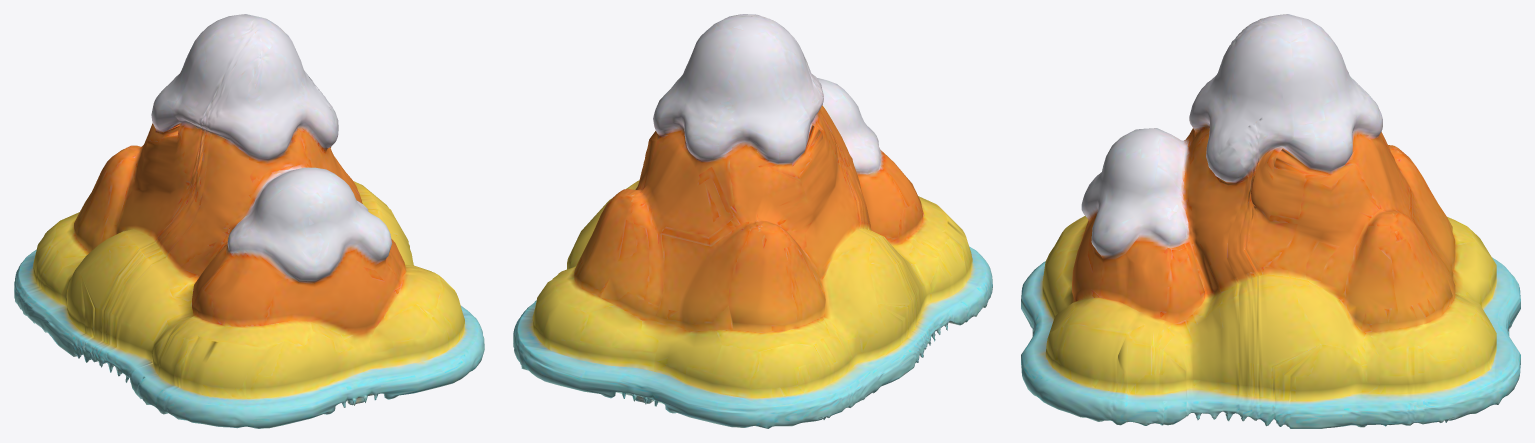
File: 童话山.glb
The picture shows the model from 3 angles, left to right: view 1: azimuth 30°, elevation 25°; view 2: azimuth 150°, elevation 25°; view 3: azimuth 270°, elevation 25°; orthographic projection. The views are drawn at different scales.
Parts seen in each view (by area): view 1: tripo_node_5a13ac86-fd3b-43cb-9501-3dc52e5e7fc3; view 2: tripo_node_5a13ac86-fd3b-43cb-9501-3dc52e5e7fc3; view 3: tripo_node_5a13ac86-fd3b-43cb-9501-3dc52e5e7fc3.
Boxes of the visible parts, x1=… form: tripo_node_5a13ac86-fd3b-43cb-9501-3dc52e5e7fc3: x1=14, y1=14, x2=484, y2=428; tripo_node_5a13ac86-fd3b-43cb-9501-3dc52e5e7fc3: x1=513, y1=14, x2=992, y2=428; tripo_node_5a13ac86-fd3b-43cb-9501-3dc52e5e7fc3: x1=1021, y1=14, x2=1520, y2=428.
Bounding box in the file's own units: 0.8356 × 0.7182 × 1.
1 material, 1 textured.
